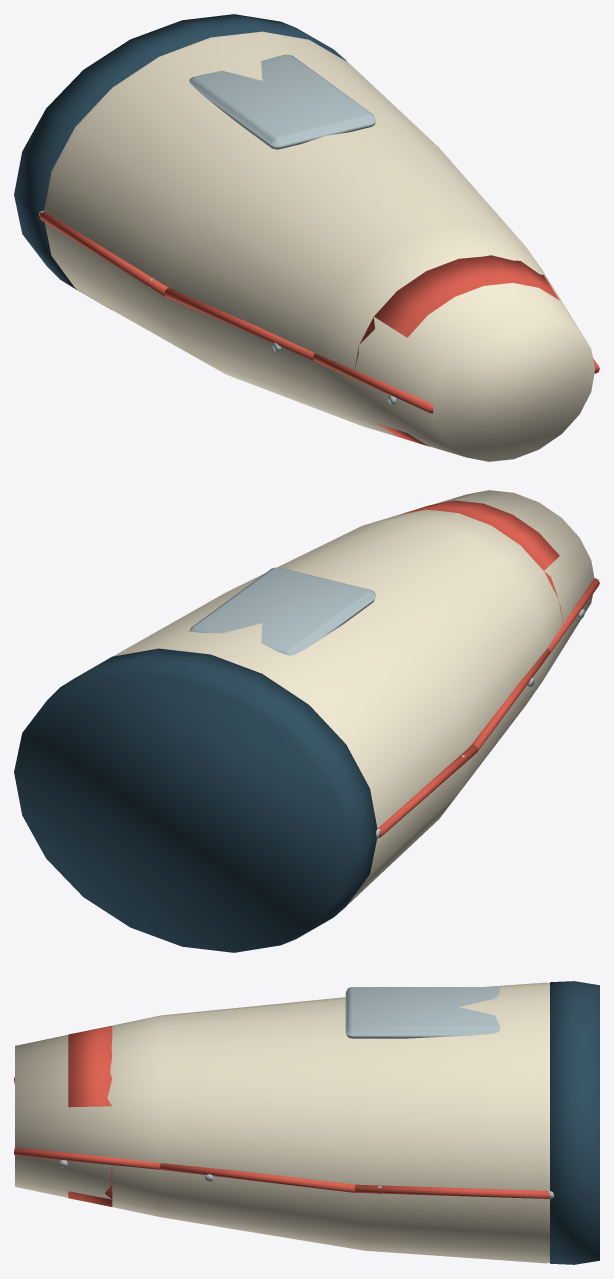
Rendered from fuselage.glb.
3 renders of one model, top to bottom at view 1: azimuth 30°, elevation 25°; view 2: azimuth 150°, elevation 25°; view 3: azimuth 270°, elevation 25°, orthographic. The views are drawn at different scales.
Parts seen in each view (by area): view 1: fuselage_Ivory, fuselage_Navy, fuselage_Paint, fuselage_Aluminium; view 2: fuselage_Navy, fuselage_Ivory, fuselage_Aluminium, fuselage_Paint; view 3: fuselage_Ivory, fuselage_Navy, fuselage_Paint, fuselage_Aluminium.
Part boxes in pixels (x1,y1,x2,y2): fuselage_Ivory: (44, 31, 595, 461); fuselage_Navy: (14, 14, 346, 309); fuselage_Paint: (39, 211, 599, 446); fuselage_Aluminium: (39, 54, 396, 404); fuselage_Navy: (14, 648, 377, 952); fuselage_Ivory: (113, 490, 594, 904); fuselage_Aluminium: (189, 567, 584, 838); fuselage_Paint: (377, 500, 599, 836); fuselage_Ivory: (15, 982, 549, 1263); fuselage_Navy: (550, 981, 599, 1264); fuselage_Paint: (14, 1025, 549, 1206); fuselage_Aluminium: (59, 987, 554, 1199).
Bounding box in the file's own units: 0.7179 × 0.556 × 1.21.
